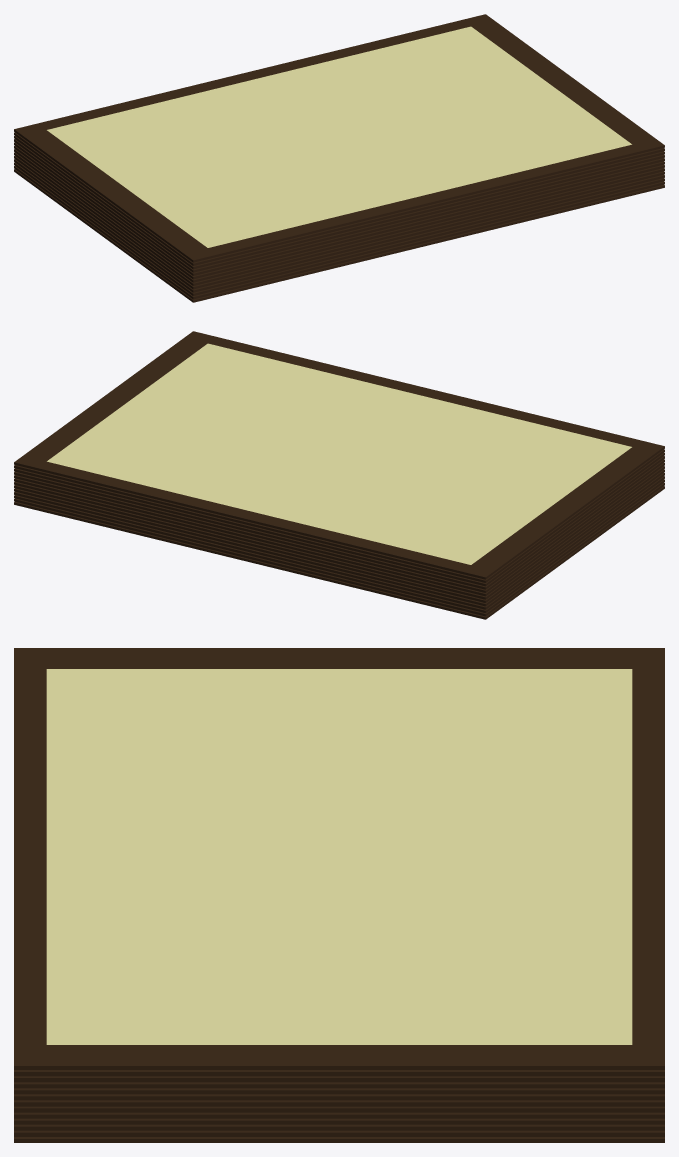
Rendered from Колода карт.fbx.
The picture shows the model from 3 angles, top to bottom: view 1: azimuth 30°, elevation 25°; view 2: azimuth 150°, elevation 25°; view 3: azimuth 270°, elevation 25°; orthographic projection. The views are drawn at different scales.
Parts seen in each view (by area): view 1: Cube.031, Cube.017; view 2: Cube.031, Cube.017; view 3: Cube.031, Cube.017.
Part boxes in pixels (x1,y1,x2,y2): Cube.031: (14,14,664,262); Cube.017: (14,132,664,302); Cube.031: (14,331,664,579); Cube.017: (14,449,664,619); Cube.031: (14,648,664,1069); Cube.017: (14,1070,664,1142).
Bounding box in the file's own units: 0.5458 × 0.3593 × 0.0469.
